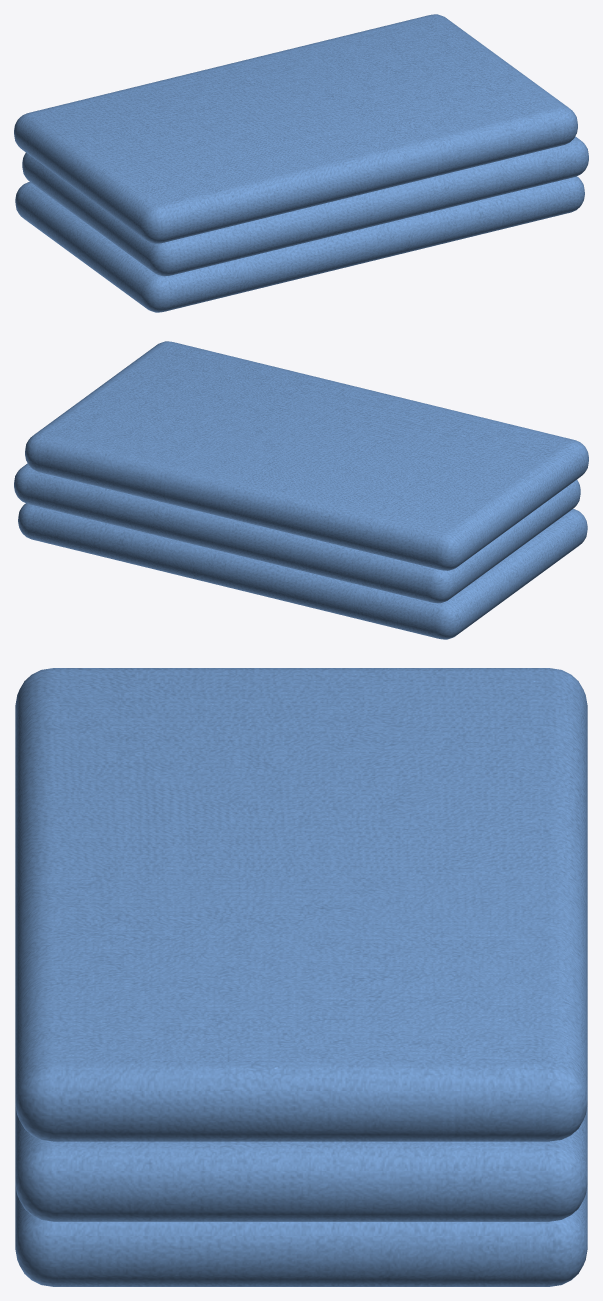
File: Towel.glb
The picture shows the model from 3 angles, top to bottom: view 1: azimuth 30°, elevation 25°; view 2: azimuth 150°, elevation 25°; view 3: azimuth 270°, elevation 25°; orthographic projection. The views are drawn at different scales.
Parts seen in each view (by area): view 1: Towel; view 2: Towel; view 3: Towel.
Boxes of the visible parts, x1,y1,x2,y2 form: Towel: [14, 14, 588, 312]; Towel: [14, 341, 588, 639]; Towel: [15, 668, 587, 1286].
Size of the model in its own units: 0.324 by 0.074 by 0.18.
Materials: 1 (1 with a texture image).
